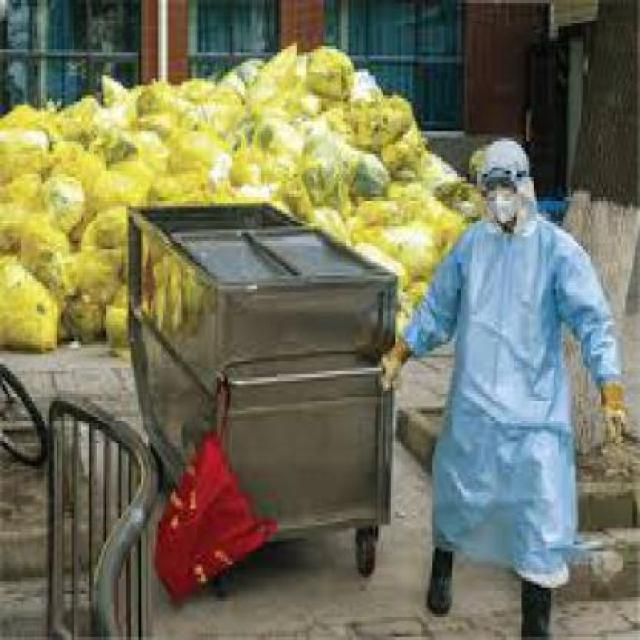B3: (484, 191, 524, 226)
